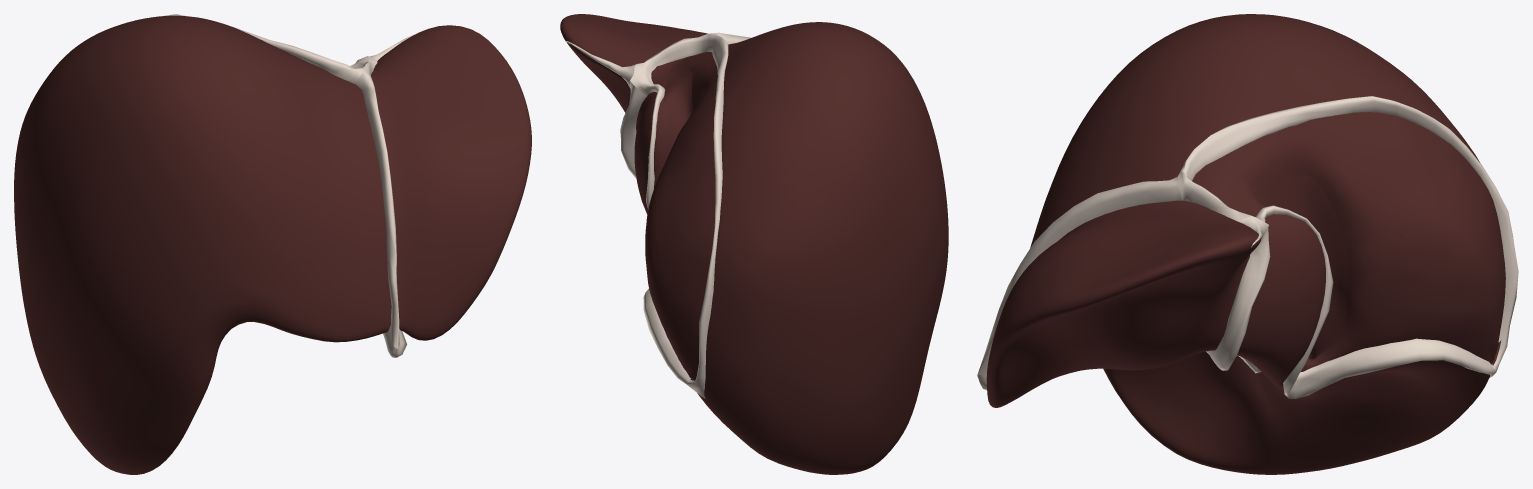
File: liver.glb
3 renders of one model, left to right at view 1: azimuth 30°, elevation 25°; view 2: azimuth 150°, elevation 25°; view 3: azimuth 270°, elevation 25°, orthographic. The views are drawn at different scales.
Visible parts, largest first — view 1: VH_M_liver_capsule, VH_M_falciform_ligament, VH_M_coronary_ligament_of_liver; view 2: VH_M_liver_capsule, VH_M_bare_area_of_liver, VH_M_coronary_ligament_of_liver, VH_M_caudate_lobe_of_liver, VH_M_ligamentum_venosum, VH_M_right_posterosuperior_segment, VH_M_triangular_ligament_of_liver, VH_M_right_posteroinferior_segment; view 3: VH_M_liver_capsule, VH_M_bare_area_of_liver, VH_M_coronary_ligament_of_liver, VH_M_caudate_lobe_of_liver, VH_M_falciform_ligament, VH_M_ligamentum_venosum, VH_M_diaphragmatic_surface, VH_M_right_posterosuperior_segment.
Part boxes in pixels (x1,y1,x2,y2): VH_M_liver_capsule: (14,15,531,474); VH_M_falciform_ligament: (356,72,399,349); VH_M_coronary_ligament_of_liver: (162,14,377,84); VH_M_liver_capsule: (560,14,948,474); VH_M_bare_area_of_liver: (645,51,717,378); VH_M_coronary_ligament_of_liver: (630,34,728,398); VH_M_caudate_lobe_of_liver: (652,55,712,133); VH_M_ligamentum_venosum: (620,81,646,178); VH_M_right_posterosuperior_segment: (651,120,715,337); VH_M_triangular_ligament_of_liver: (565,41,635,87); VH_M_right_posteroinferior_segment: (671,337,698,376); VH_M_liver_capsule: (986,14,1501,474); VH_M_bare_area_of_liver: (1192,112,1505,366); VH_M_coronary_ligament_of_liver: (1178,96,1518,398); VH_M_caudate_lobe_of_liver: (1206,156,1349,371); VH_M_falciform_ligament: (977,176,1181,375); VH_M_ligamentum_venosum: (1206,226,1270,370); VH_M_diaphragmatic_surface: (1240,173,1494,372); VH_M_right_posterosuperior_segment: (1347,112,1499,331).
Size of the model in its own units: 0.1731 by 0.1746 by 0.1758.
